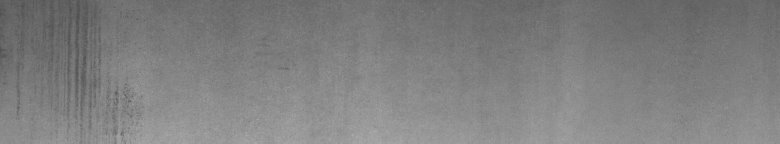ka: (17, 29, 136, 136)
